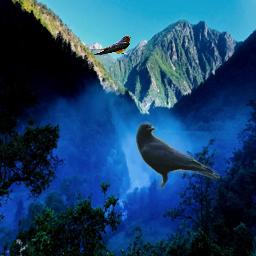Crow: (136, 121, 220, 189)
Swallow: (84, 35, 131, 55)
